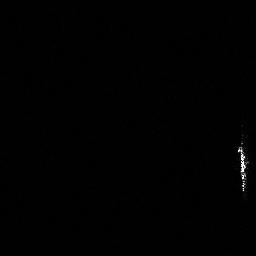ship: (235, 139, 251, 193)
